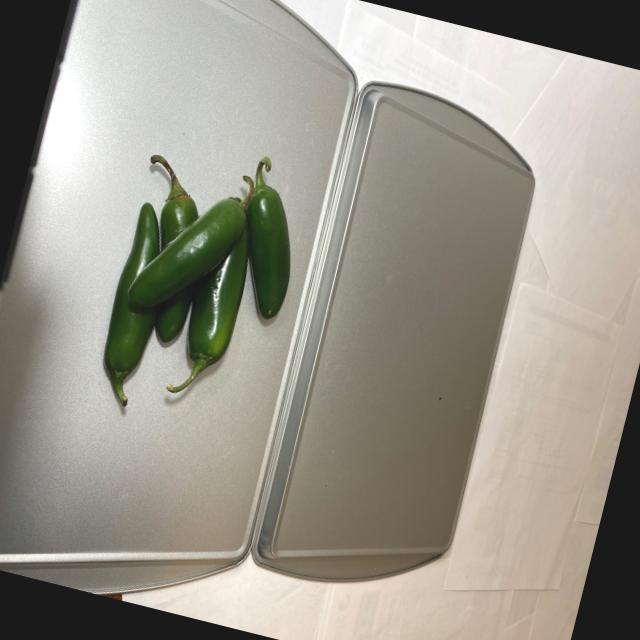chilli: (93, 135, 324, 437)
